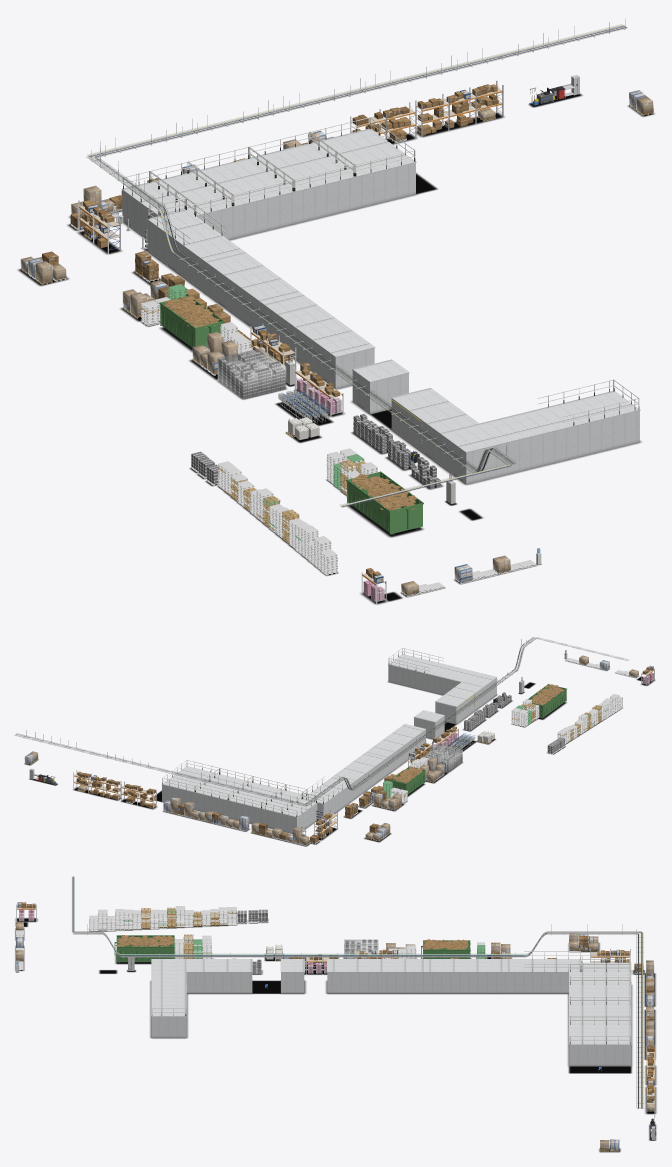
File: tras_v78.glb
3 views of the same model, one above another, from view 1: azimuth 30°, elevation 25°; view 2: azimuth 150°, elevation 25°; view 3: azimuth 270°, elevation 25° (orthographic). The views are drawn at different scales.
Parts seen in each view (by area): view 1: tras_techo_cam, tras_panel, tras_carton, tras_film, tras_tp_azul, tras_baranda, tras_malla, tras_verde, tras_jaba_n, tras_remate, tras_cab_neg, tras_sombra_f (+13 smaller); view 2: tras_techo_cam, tras_panel, tras_carton, tras_film, tras_tp_azul, tras_baranda, tras_malla, tras_sombra_f, tras_remate, tras_verde, tras_jaba_n, tras_sombra_m (+6 smaller); view 3: tras_techo_cam, tras_panel, tras_carton, tras_tp_azul, tras_film, tras_sombra_l, tras_baranda, tras_cab_gris, tras_cab_neg, tras_verde, tras_alambre, tras_tp_pino (+9 smaller).
Part boxes in pixels (left/top/right/bottom): tras_techo_cam: left=123, top=128, right=639, bottom=451; tras_panel: left=122, top=163, right=639, bottom=482; tras_carton: left=21, top=84, right=653, bottom=595; tras_film: left=20, top=90, right=653, bottom=595; tras_tp_azul: left=141, top=297, right=536, bottom=593; tras_baranda: left=122, top=117, right=639, bottom=422; tras_malla: left=87, top=24, right=626, bottom=507; tras_verde: left=160, top=295, right=422, bottom=534; tras_jaba_n: left=222, top=354, right=415, bottom=469; tras_remate: left=121, top=128, right=640, bottom=452; tras_cab_neg: left=89, top=26, right=626, bottom=506; tras_sombra_f: left=18, top=105, right=654, bottom=604; tras_techo_cam: left=163, top=654, right=496, bottom=816; tras_panel: left=162, top=665, right=496, bottom=832; tras_carton: left=25, top=656, right=653, bottom=844; tras_film: left=24, top=655, right=638, bottom=845; tras_tp_azul: left=390, top=658, right=628, bottom=803; tras_baranda: left=162, top=648, right=443, bottom=814; tras_malla: left=15, top=638, right=627, bottom=805; tras_sombra_f: left=24, top=680, right=655, bottom=846; tras_remate: left=162, top=654, right=497, bottom=817; tras_verde: left=391, top=684, right=566, bottom=794; tras_jaba_n: left=426, top=702, right=497, bottom=771; tras_sombra_m: left=29, top=659, right=650, bottom=839; tras_techo_cam: left=151, top=959, right=630, bottom=1044; tras_panel: left=151, top=972, right=630, bottom=1065; tras_carton: left=16, top=902, right=654, bottom=1150; tras_tp_azul: left=16, top=906, right=484, bottom=970; tras_film: left=15, top=922, right=654, bottom=1150; tras_sombra_l: left=15, top=922, right=632, bottom=1073; tras_baranda: left=152, top=951, right=630, bottom=1042; tras_cab_gris: left=73, top=877, right=642, bottom=1108; tras_cab_neg: left=72, top=877, right=641, bottom=1108; tras_verde: left=116, top=936, right=470, bottom=961; tras_alambre: left=73, top=931, right=641, bottom=957; tras_tp_pino: left=141, top=907, right=282, bottom=961.
Size of the model in its own units: 70.35 by 8.31 by 81.25.
66 materials, 19 textured.
